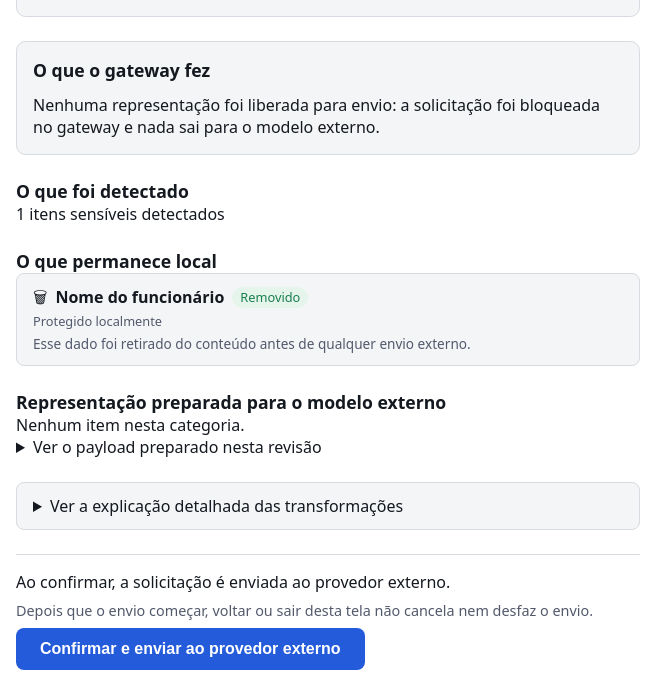
Test case: ReviewScreen -- disclosure inspector (T27), now behind a Level-2 disclosure (T30) › renders the unavailable message once the Level-2 disclosure is opened, when inspection.available is false
(page scrolled)
Click the heading "Ver a explicação detalhada das transformações".
click(226, 506)  # box [50,495,403,517]
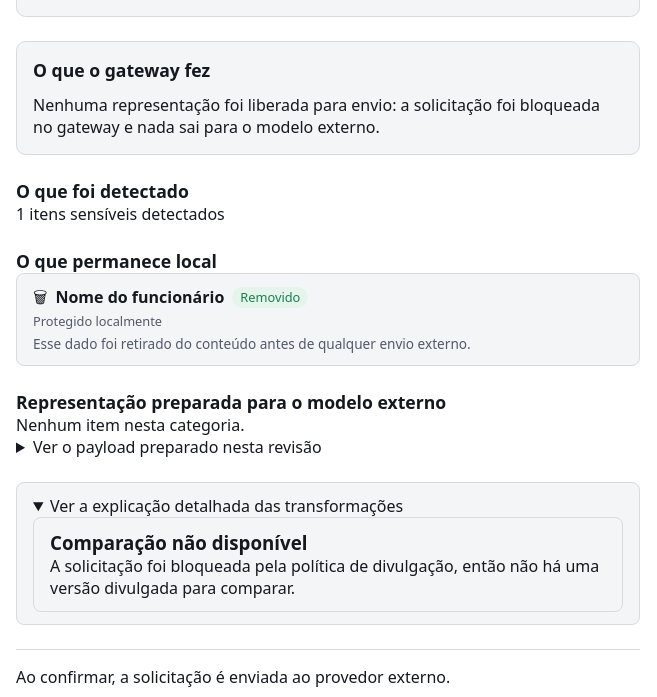
Result: the heading "Comparação não disponível" is shown at [50,530,307,555]
